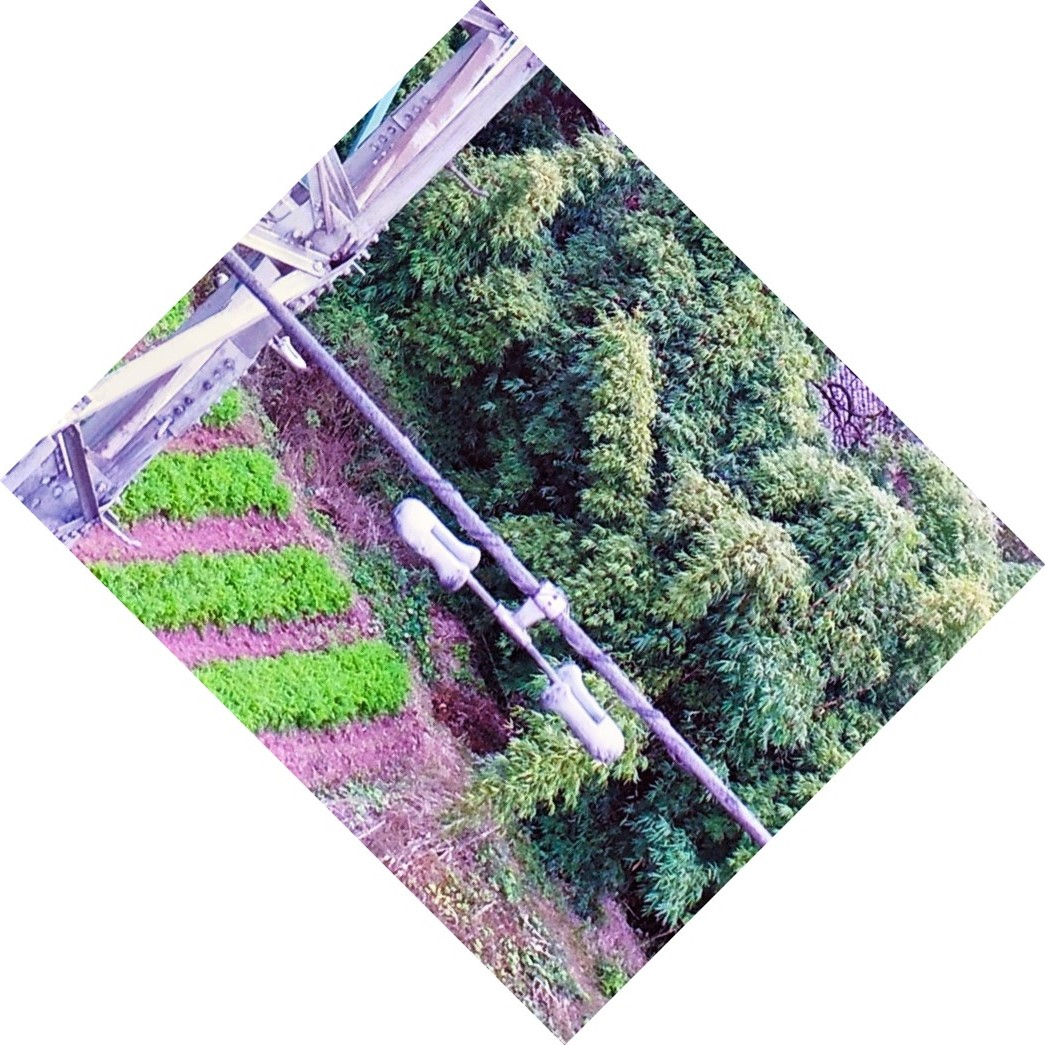Shockproof hammer: (381, 465, 637, 771)
